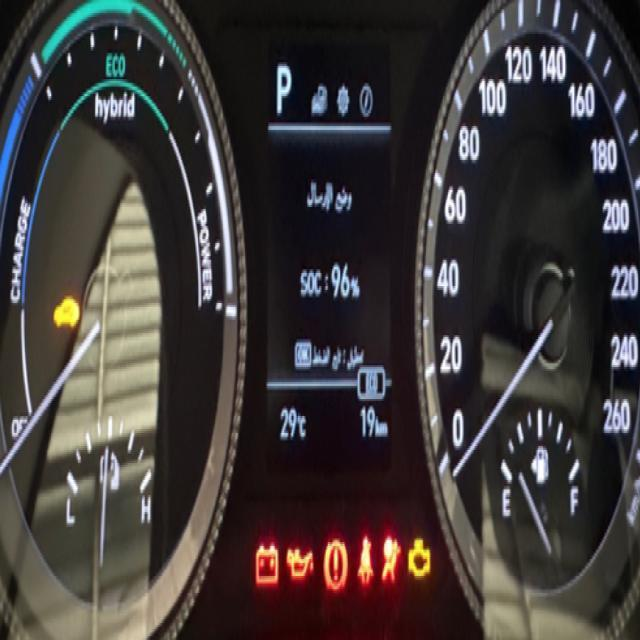Seat Belt: (356, 532, 376, 592)
